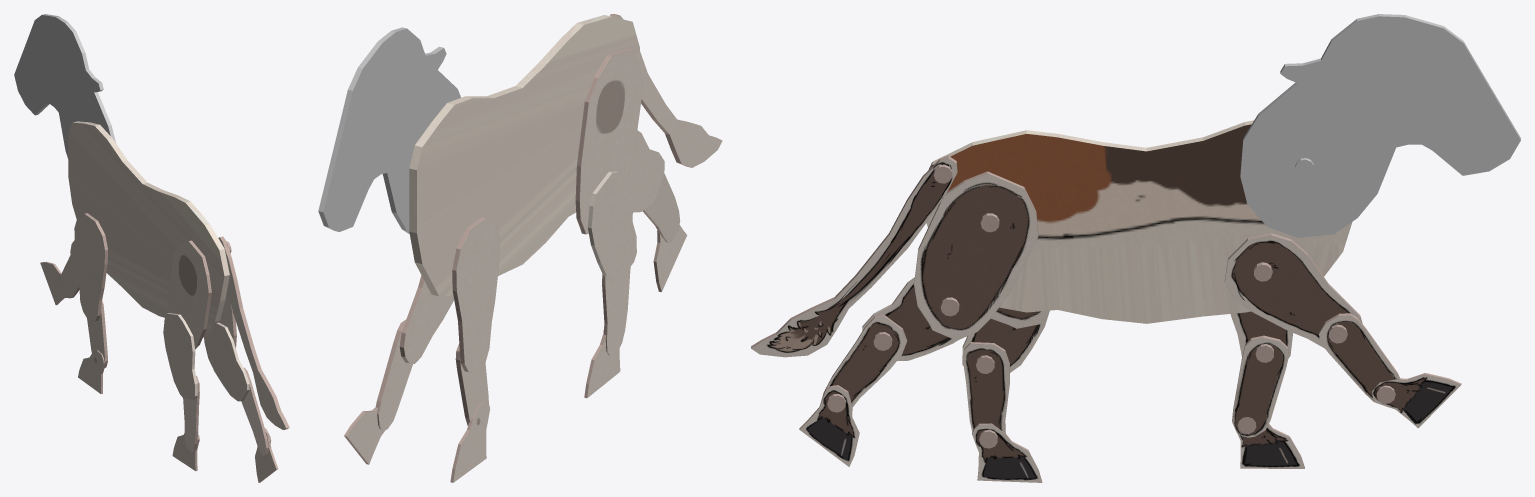
The model's file is Donkey Scared Right.fbx.
The picture shows the model from 3 angles, left to right: view 1: azimuth 30°, elevation 25°; view 2: azimuth 150°, elevation 25°; view 3: azimuth 270°, elevation 25°; orthographic projection. The views are drawn at different scales.
Visible parts, largest first — view 1: Donke Sad.001, Donke head.004, Donke leg F1.009, Donke Leg F1.009, Donke Tail.004, Donke Leg B2.009, Donke Leg B2.008, Plane.010, Plane.009, Donke Hoof F.009, Donke leg F2.009, Hoof B.008 (+4 smaller); view 2: Donke Sad.001, Donke head.004, Donke leg F1.009, Donke Leg F1.009, Donke Leg B2.009, Donke Tail.004, Donke Leg F1.008, Donke Leg B2.008, Donke leg F2.008, Plane.009, Donke Hoof F.009, Plane.010 (+4 smaller); view 3: Donke Sad.001, Donke head.004, Donke leg F1.008, Donke Leg F1.008, Donke Tail.004, Donke leg F2.009, Plane.010, Donke leg F2.008, Plane.009, Hoof B.009, Hoof B.008, Donke Hoof F.008 (+5 smaller).
Part boxes in pixels (x1=…): Donke Sad.001: x1=68, y1=121, x2=229, y2=337; Donke head.004: x1=14, y1=14, x2=116, y2=158; Donke leg F1.009: x1=168, y1=240, x2=211, y2=349; Donke Leg F1.009: x1=74, y1=213, x2=107, y2=321; Donke Tail.004: x1=218, y1=236, x2=289, y2=429; Donke Leg B2.009: x1=163, y1=313, x2=197, y2=399; Donke Leg B2.008: x1=204, y1=322, x2=249, y2=401; Plane.010: x1=241, y1=367, x2=268, y2=455; Plane.009: x1=183, y1=376, x2=199, y2=451; Donke Hoof F.009: x1=78, y1=350, x2=105, y2=394; Donke leg F2.009: x1=87, y1=300, x2=107, y2=368; Hoof B.008: x1=255, y1=428, x2=278, y2=482; Donke Sad.001: x1=409, y1=15, x2=639, y2=296; Donke head.004: x1=318, y1=27, x2=460, y2=234; Donke leg F1.009: x1=575, y1=48, x2=643, y2=234; Donke Leg F1.009: x1=452, y1=217, x2=500, y2=372; Donke Leg B2.009: x1=587, y1=171, x2=636, y2=281; Donke Tail.004: x1=610, y1=14, x2=722, y2=167; Donke Leg F1.008: x1=399, y1=275, x2=454, y2=363; Donke Leg B2.008: x1=627, y1=130, x2=664, y2=212; Donke leg F2.008: x1=375, y1=319, x2=412, y2=430; Plane.009: x1=602, y1=267, x2=630, y2=355; Donke Hoof F.009: x1=450, y1=400, x2=489, y2=482; Plane.010: x1=642, y1=173, x2=680, y2=242; Donke Sad.001: x1=926, y1=120, x2=1352, y2=323; Donke head.004: x1=1240, y1=14, x2=1520, y2=237; Donke leg F1.008: x1=914, y1=171, x2=1038, y2=340; Donke Leg F1.008: x1=1224, y1=233, x2=1362, y2=348; Donke Tail.004: x1=751, y1=156, x2=957, y2=357; Donke leg F2.009: x1=1232, y1=335, x2=1288, y2=437; Plane.010: x1=821, y1=315, x2=907, y2=406; Donke leg F2.008: x1=1319, y1=313, x2=1399, y2=402; Plane.009: x1=963, y1=342, x2=1009, y2=433; Hoof B.009: x1=972, y1=423, x2=1042, y2=482; Hoof B.008: x1=799, y1=385, x2=859, y2=466; Donke Hoof F.008: x1=1372, y1=373, x2=1461, y2=428.
Bounding box in the file's own units: 13.41 × 151 × 220.
